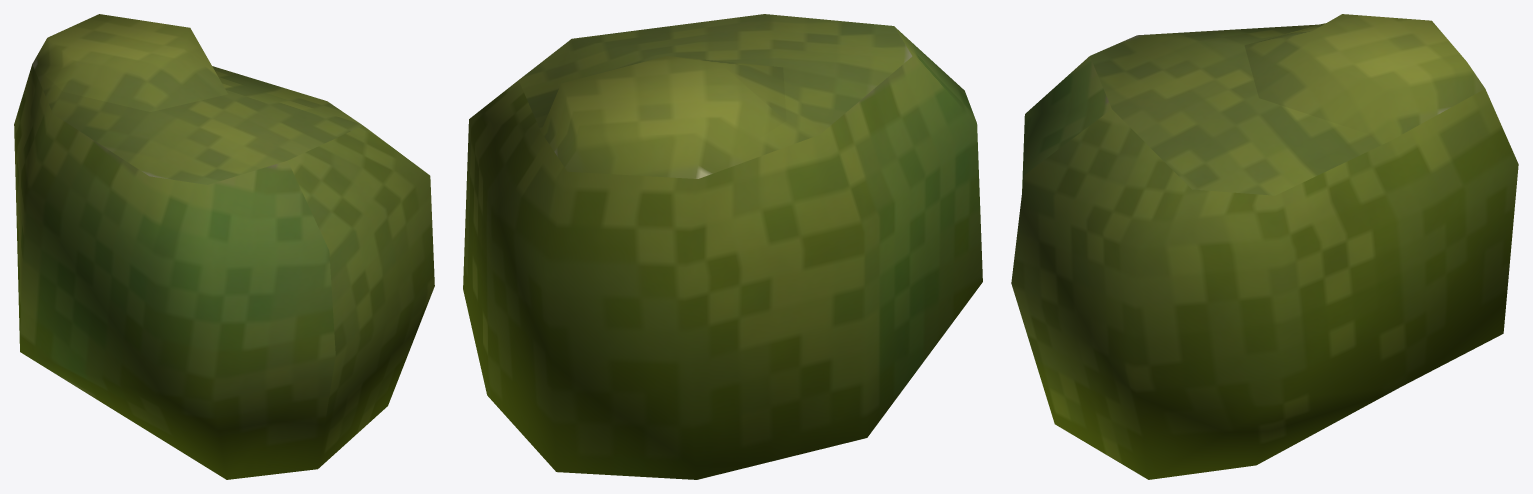
Rendered from Moss_1.fbx.
3 views of the same model, side by side, from view 1: azimuth 30°, elevation 25°; view 2: azimuth 150°, elevation 25°; view 3: azimuth 270°, elevation 25° (orthographic). The views are drawn at different scales.
Parts seen in each view (by area): view 1: Moss_1; view 2: Moss_1; view 3: Moss_1.
Boxes of the visible parts, <box> form: Moss_1: <box>14,14,434,479</box>; Moss_1: <box>463,14,982,479</box>; Moss_1: <box>1011,14,1518,479</box>.
Bounding box in the file's own units: 230 × 221 × 283.
